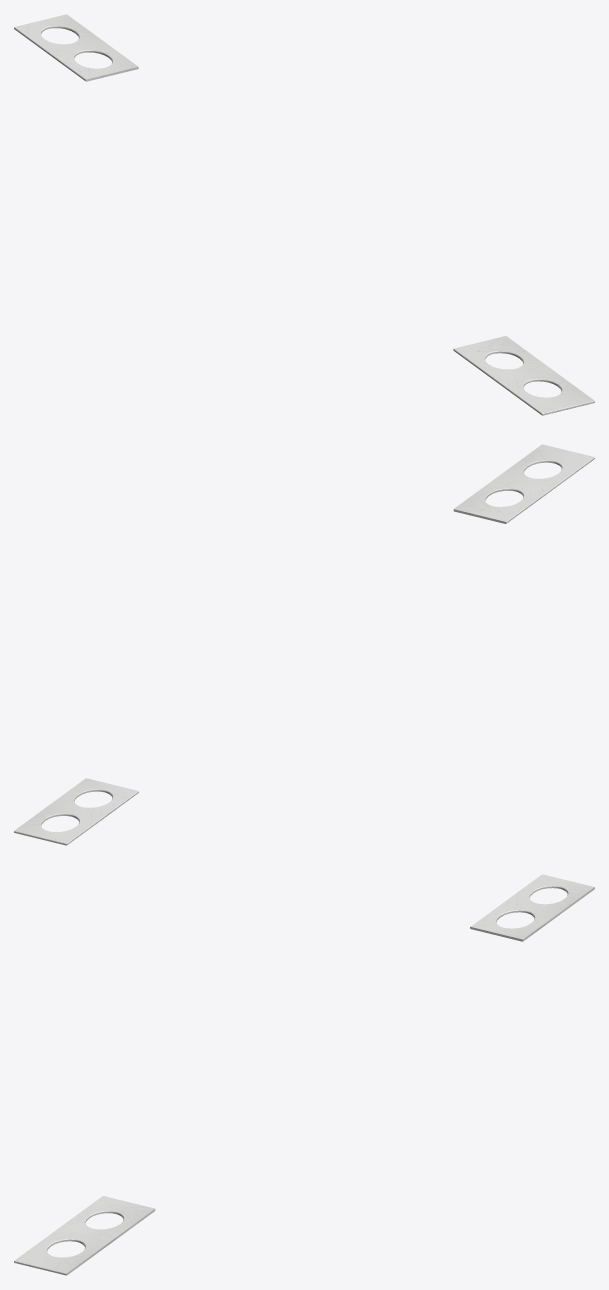
Rendered from Countertops_QuartzCalacattaUltra_.glb.
3 views of the same model, one above another, from view 1: azimuth 30°, elevation 25°; view 2: azimuth 150°, elevation 25°; view 3: azimuth 330°, elevation 25° (orthographic).
Parts seen in each view (by area): view 1: Countertops_Quartz Calacatta Ultra_; view 2: Countertops_Quartz Calacatta Ultra_; view 3: Countertops_Quartz Calacatta Ultra_.
Boxes of the visible parts, x1,y1,x2,y2 form: Countertops_Quartz Calacatta Ultra_: (14, 14, 594, 415); Countertops_Quartz Calacatta Ultra_: (14, 444, 594, 845); Countertops_Quartz Calacatta Ultra_: (14, 874, 594, 1275).
Bounding box in the file's own units: 0.9958 × 0.04 × 17.25.
1 material, 1 textured.
